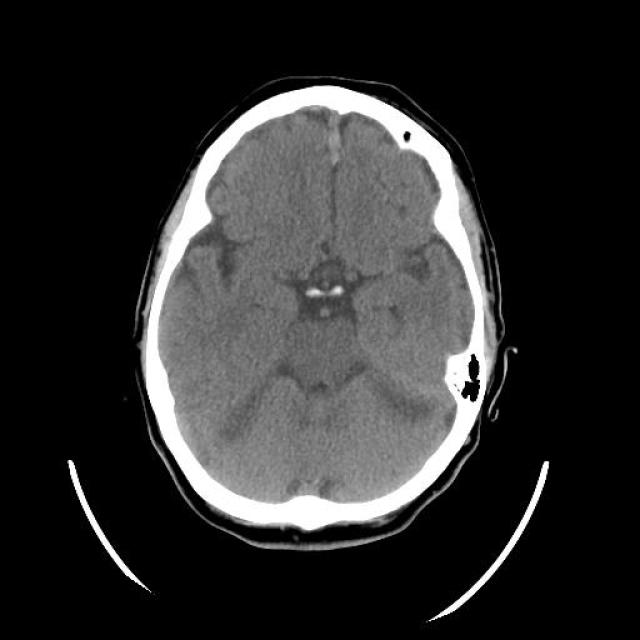Subdural: (318, 91, 360, 194)
